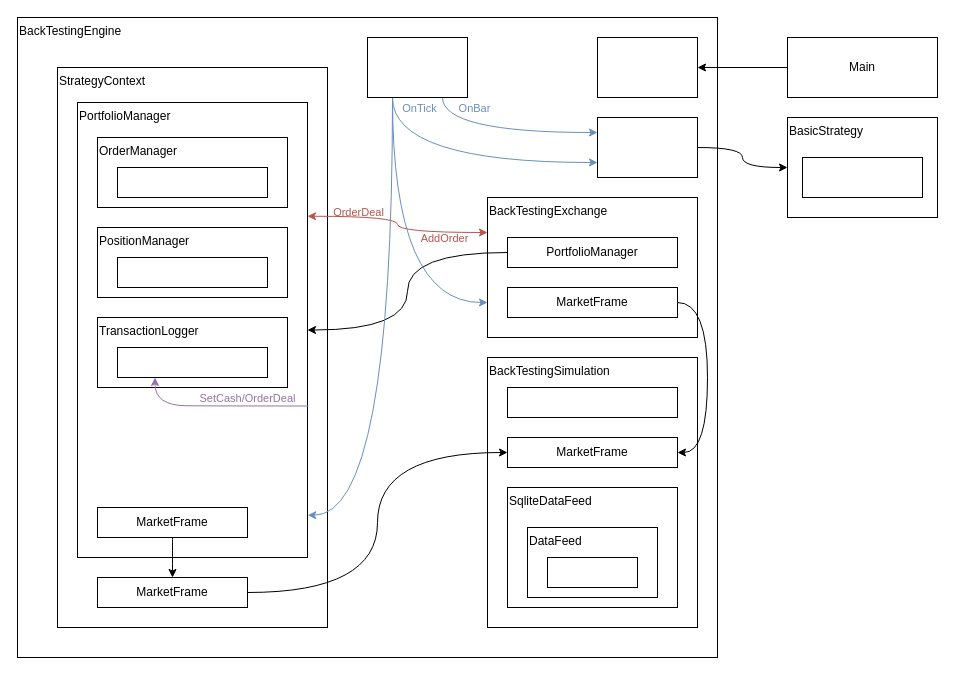
Some shapes in this 955 by 675 pixel diagram are drawn without their labels. Each missing label, with the centre of its shape:
BackTestingSimulationOptions: point 592,402
GeneralOrder: point 192,182
GeneralPosition: point 192,272
IEngine: point 647,67
IStrategy: point 647,147
Proc: point 417,67
ShareData: point 592,572
TechnicalIndicator: point 862,177
TransactionLog: point 192,362
